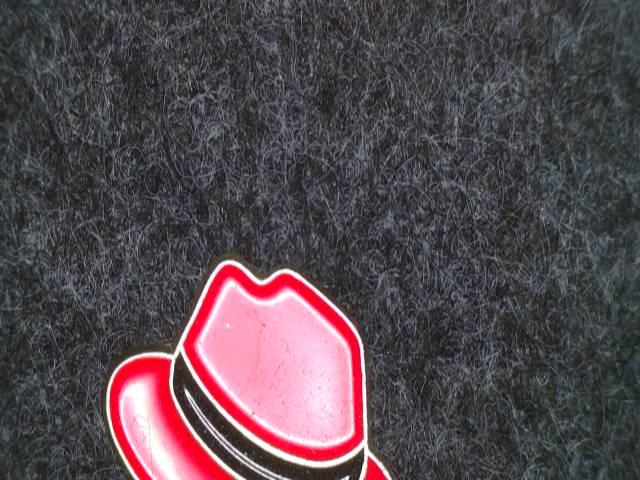Red-Hat: (74, 224, 442, 480)
